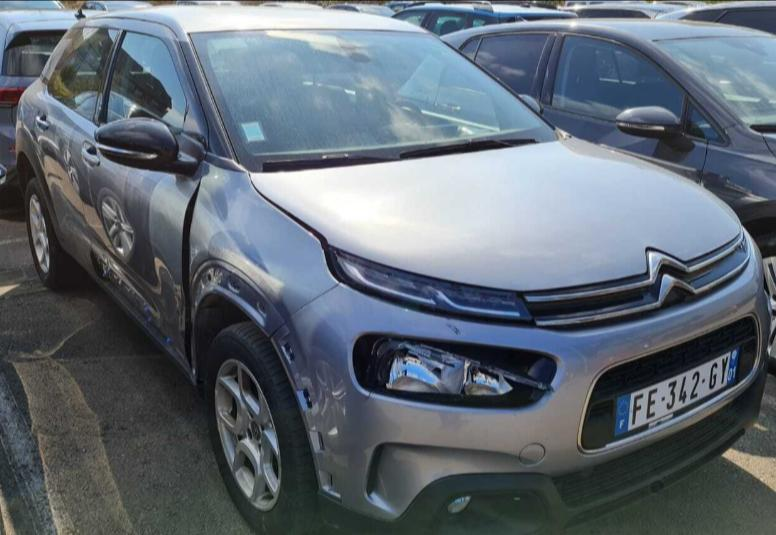Broken part: (252, 182, 537, 330), (349, 332, 564, 415), (177, 179, 203, 373)
Dent: (186, 191, 218, 366), (162, 282, 189, 358)
Missing part: (185, 258, 338, 501), (91, 248, 186, 360)
Scratch: (442, 317, 463, 335)
